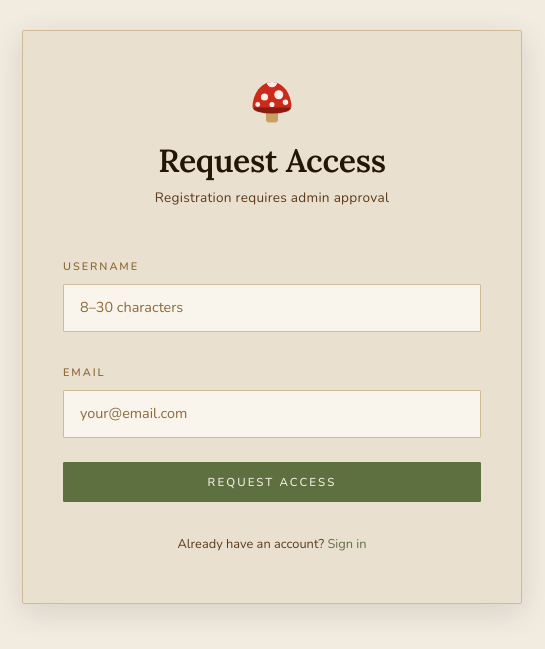
Register › shows error when username is too short
The width and height of the screenshot is (545, 649).
Type "short" into the field labelled "Username" at point(272, 308), box 63,284 -> 481,332
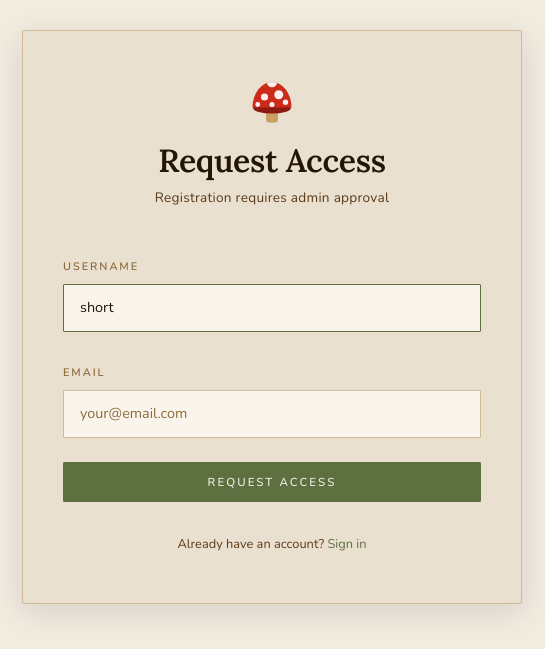
Type "test@example.com" into the field labelled "Email" at point(272, 414), box 63,390 -> 481,438
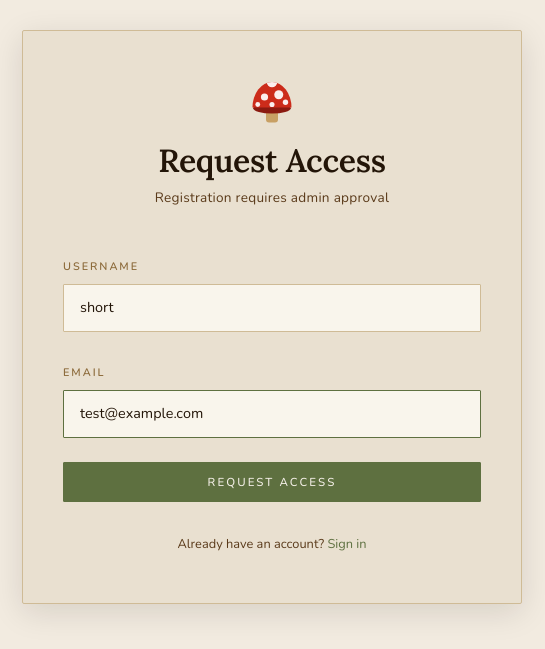
Click the button "Request Access" at point(272, 482), box 63,462 -> 481,502
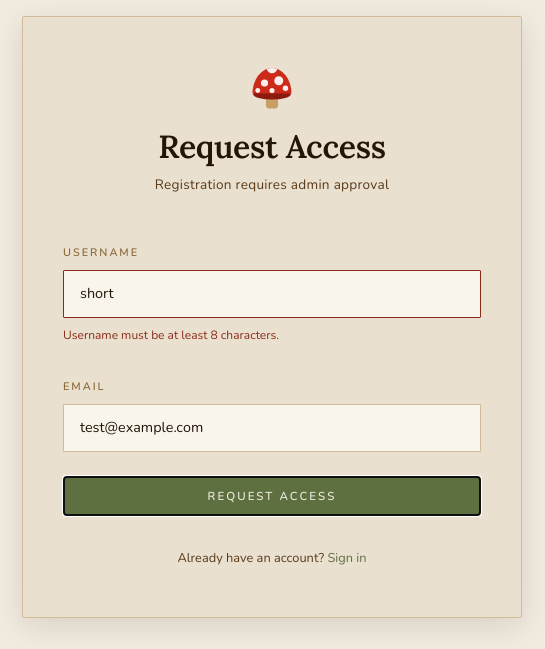
Expected: the text "Username must be at least 8 characters." is shown, 63,327 -> 279,343
